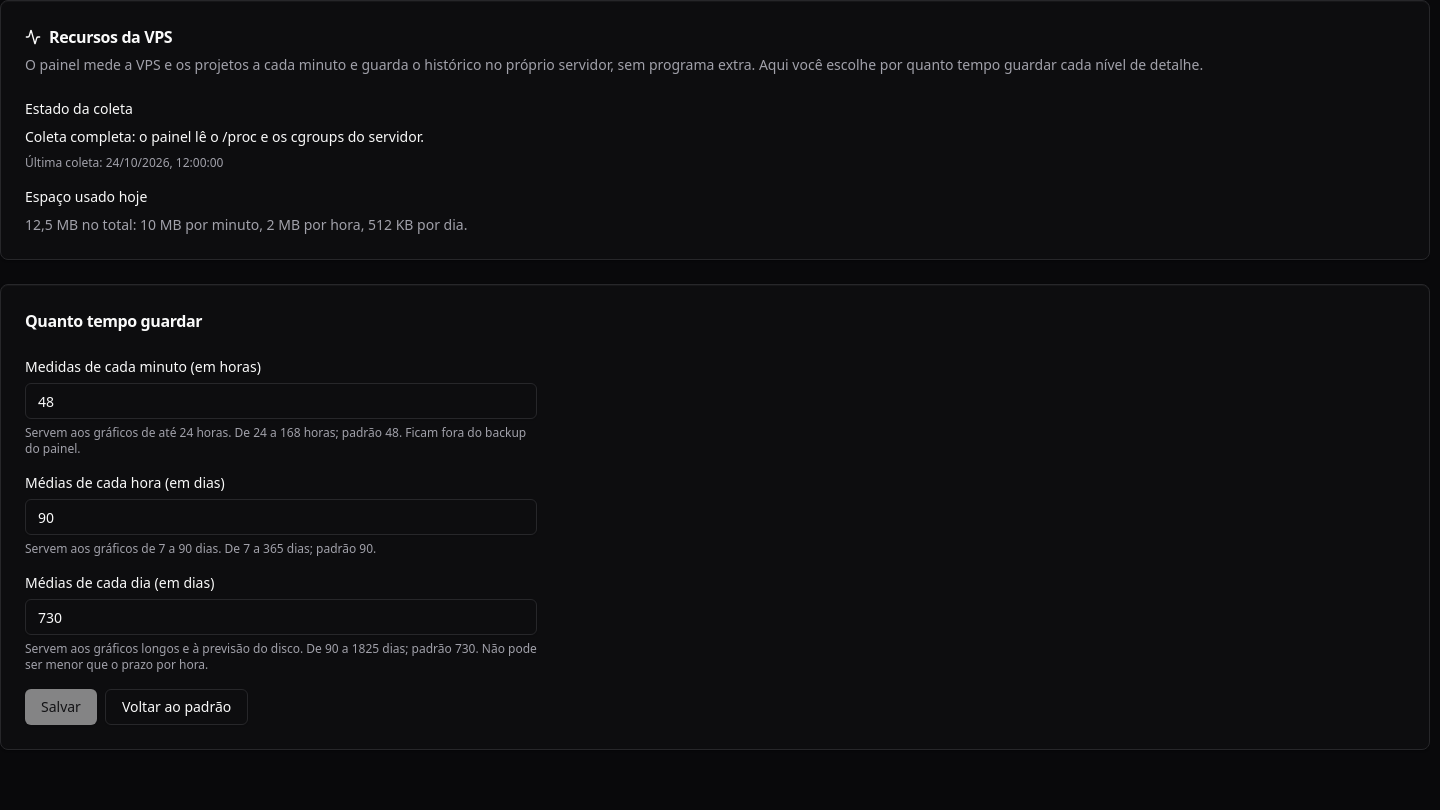
Test: salvar › reduzir pede confirmação: o primeiro clique só avisa; Cancelar volta; Confirmar salva
The width and height of the screenshot is (1440, 810).
Check: the text with test id "metrics-usage" is shown, box [25,215,467,234]
Replace the text in the number field labelled "Médias de cada hora (em dias)" with "30" at (281, 517), box [25,499,537,535]
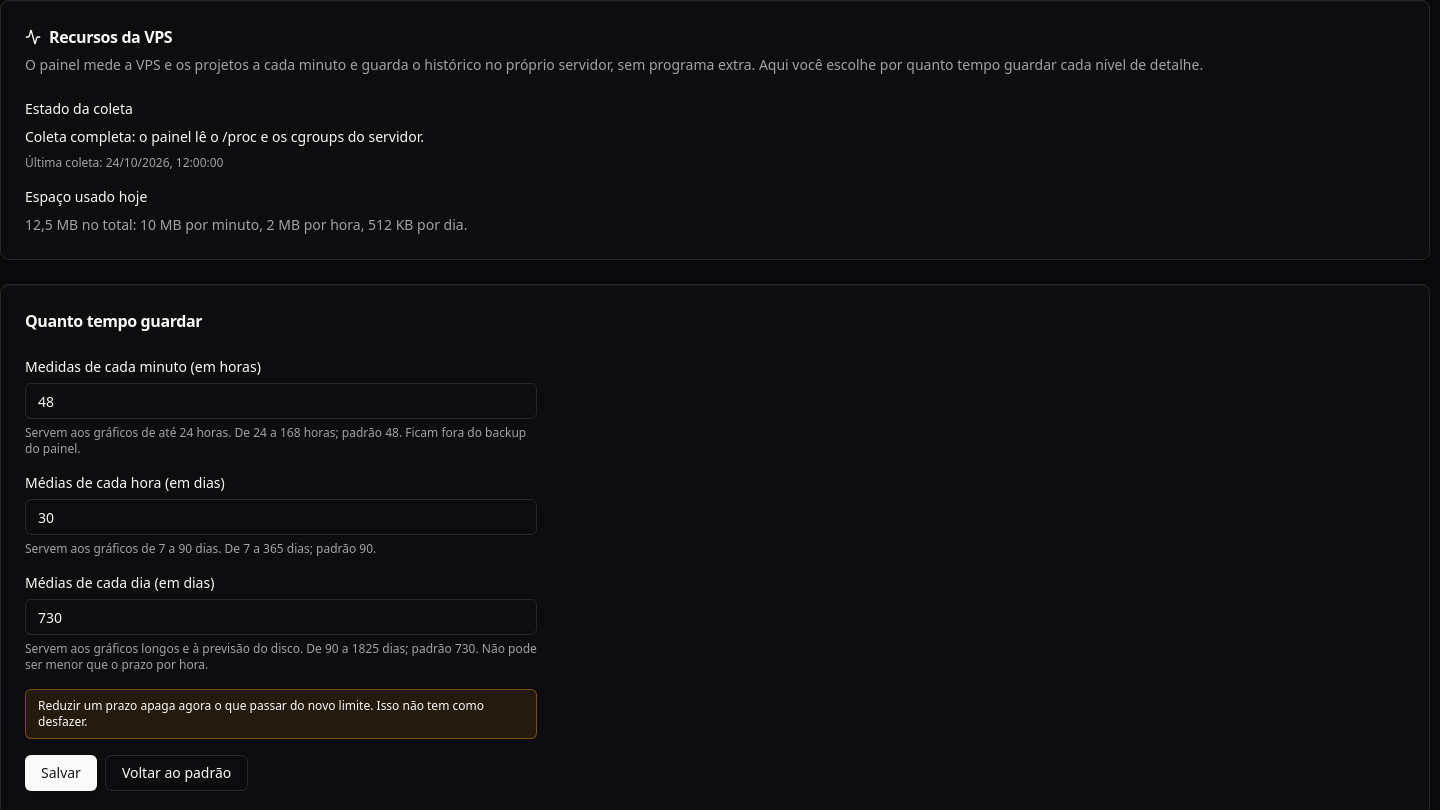
Check: the message with test id "metrics-shrink-warning" shows "apaga agora o que passar do novo limite", box [38,697,484,730]
Click the button "Salvar".
click(61, 773)  # box [25,755,97,791]
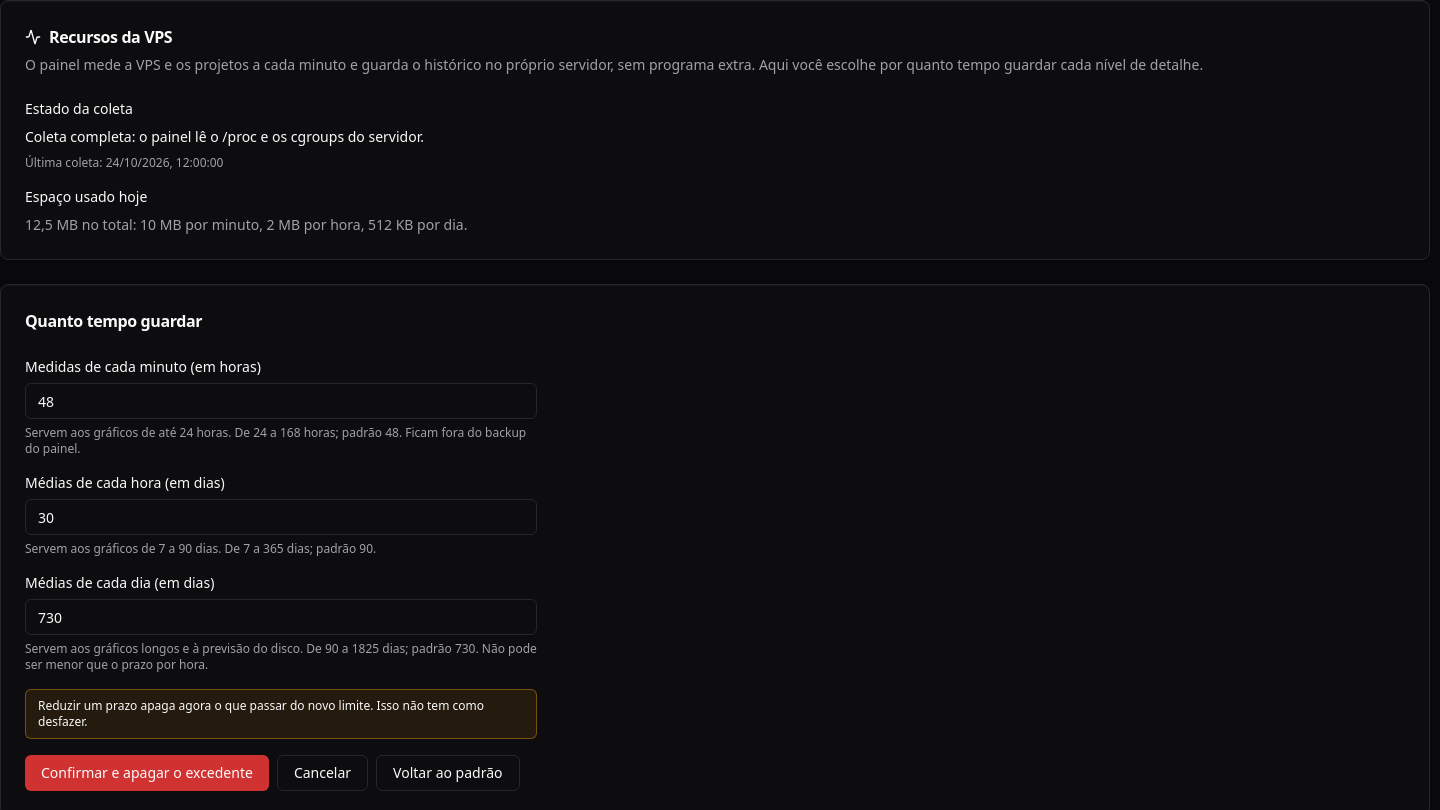
Check: the button "Confirmar e apagar o excedente" is shown, box [25,755,269,791]
Click the button "Cancelar".
click(322, 773)  # box [277,755,368,791]
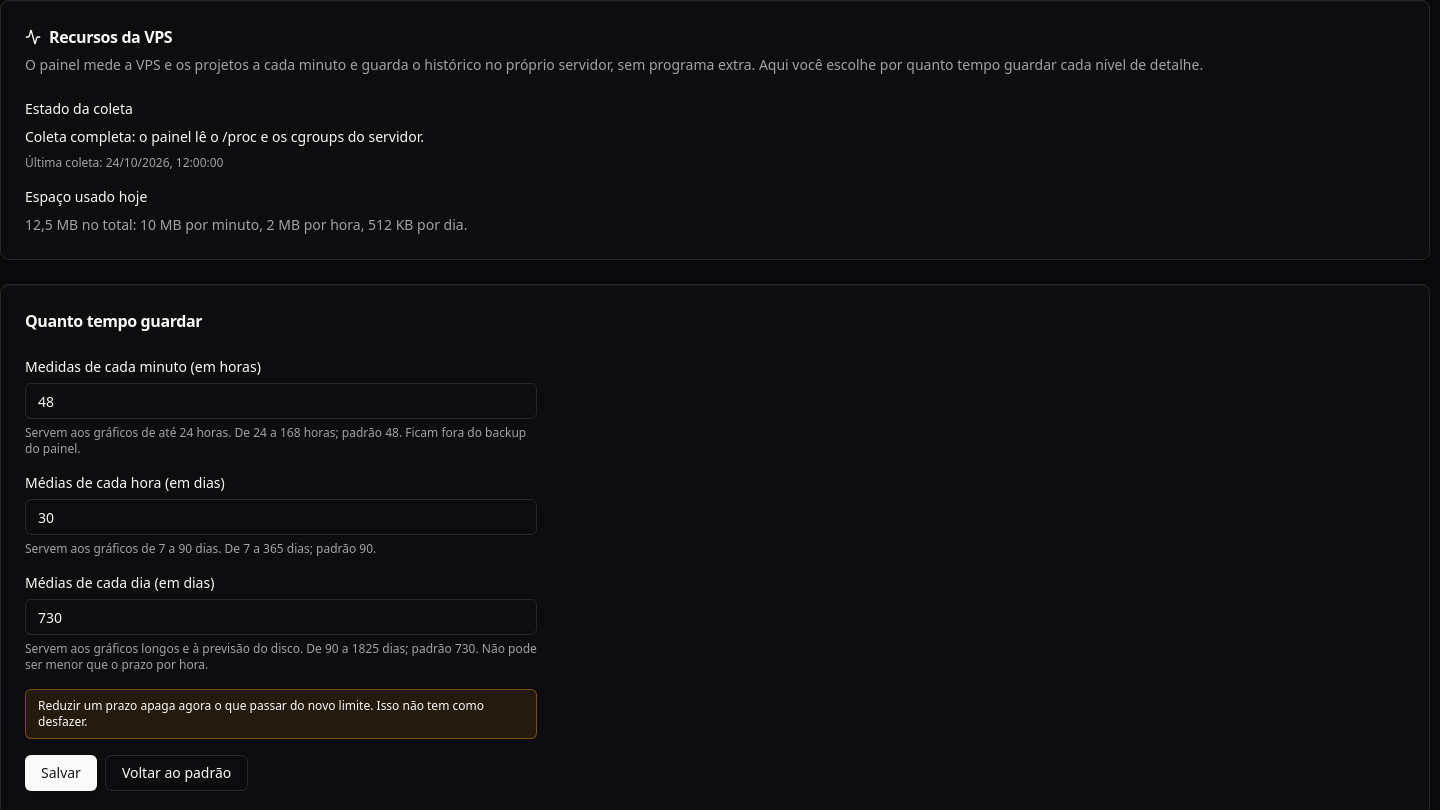
Check: the button "Confirmar e apagar o excedente" is gone
Click the button "Salvar".
click(61, 773)  # box [25,755,97,791]
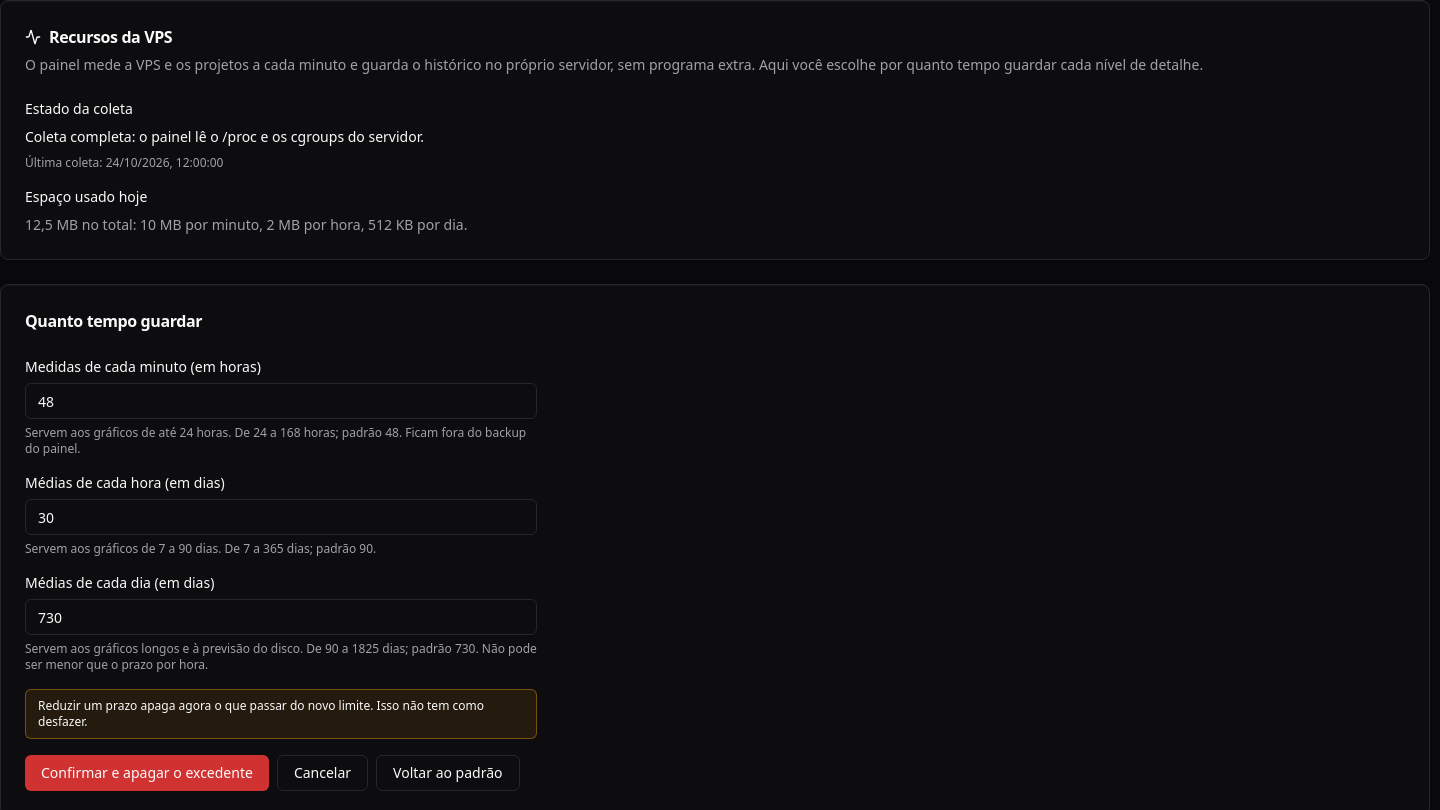
Click the button "Confirmar e apagar o excedente".
click(147, 773)  # box [25,755,269,791]
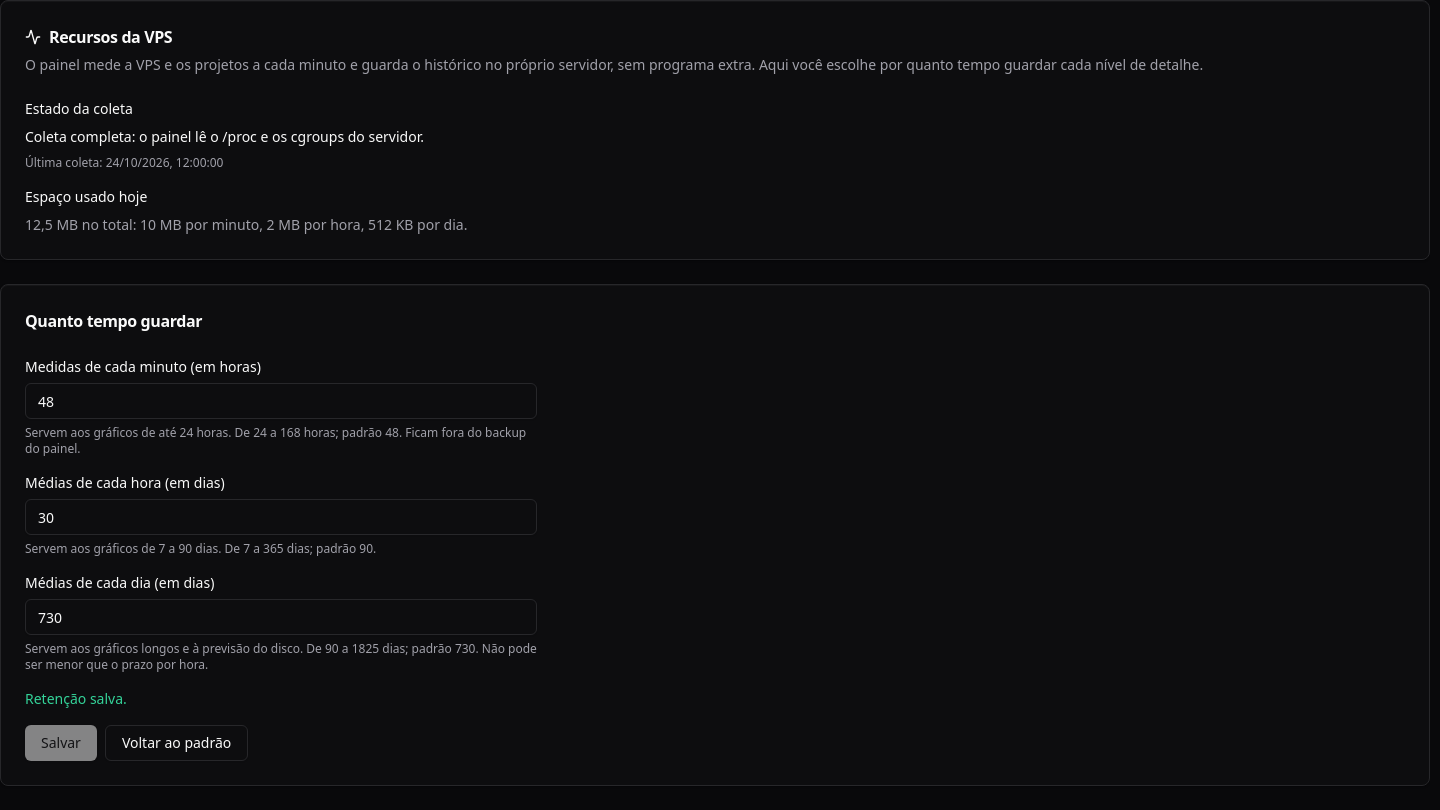
Check: the text "Retenção salva." is shown, box [25,689,127,708]
